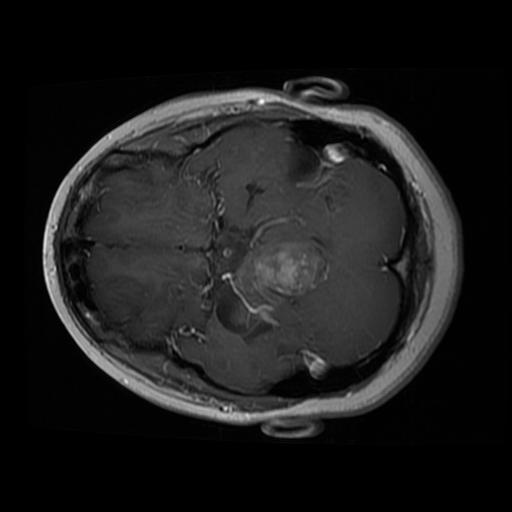glioma: (247, 240, 315, 294)
